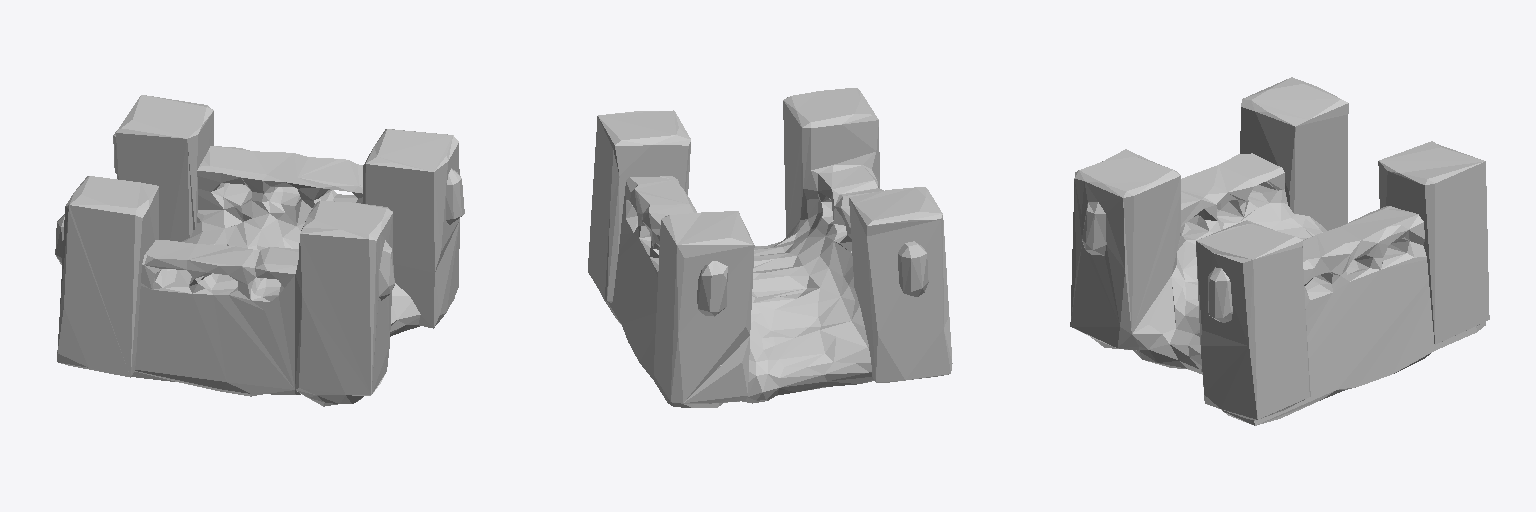
File: ponte_arabe.obj
The picture shows the model from 3 angles: view 1: azimuth 30°, elevation 25°; view 2: azimuth 150°, elevation 25°; view 3: azimuth 270°, elevation 25°; orthographic projection.
Visible parts, largest first — view 1: ponte_arabe; view 2: ponte_arabe; view 3: ponte_arabe.
Part boxes in pixels (left/top/right/bottom): ponte_arabe: left=55, top=95, right=464, bottom=406; ponte_arabe: left=588, top=88, right=952, bottom=407; ponte_arabe: left=1070, top=77, right=1489, bottom=425.
Bounding box in the file's own units: 0.0928 × 0.0429 × 0.0879.